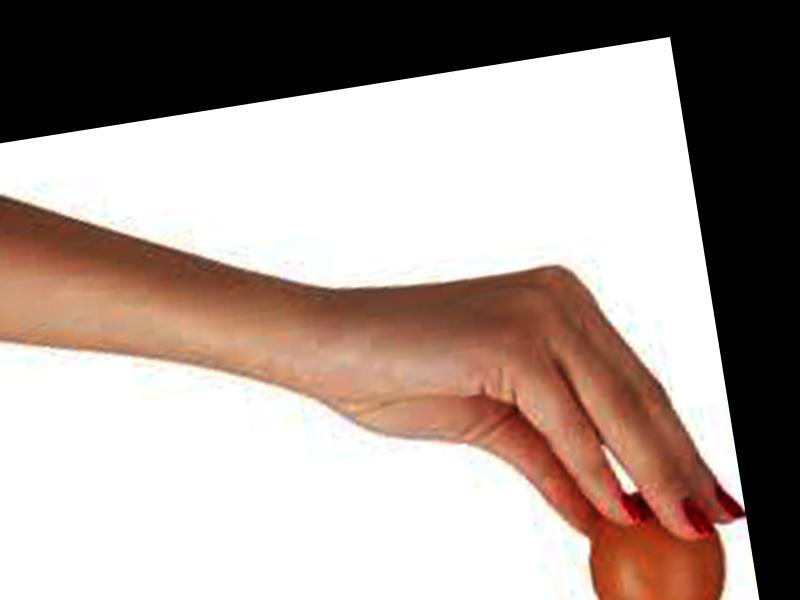Eggs: (580, 485, 736, 600)
